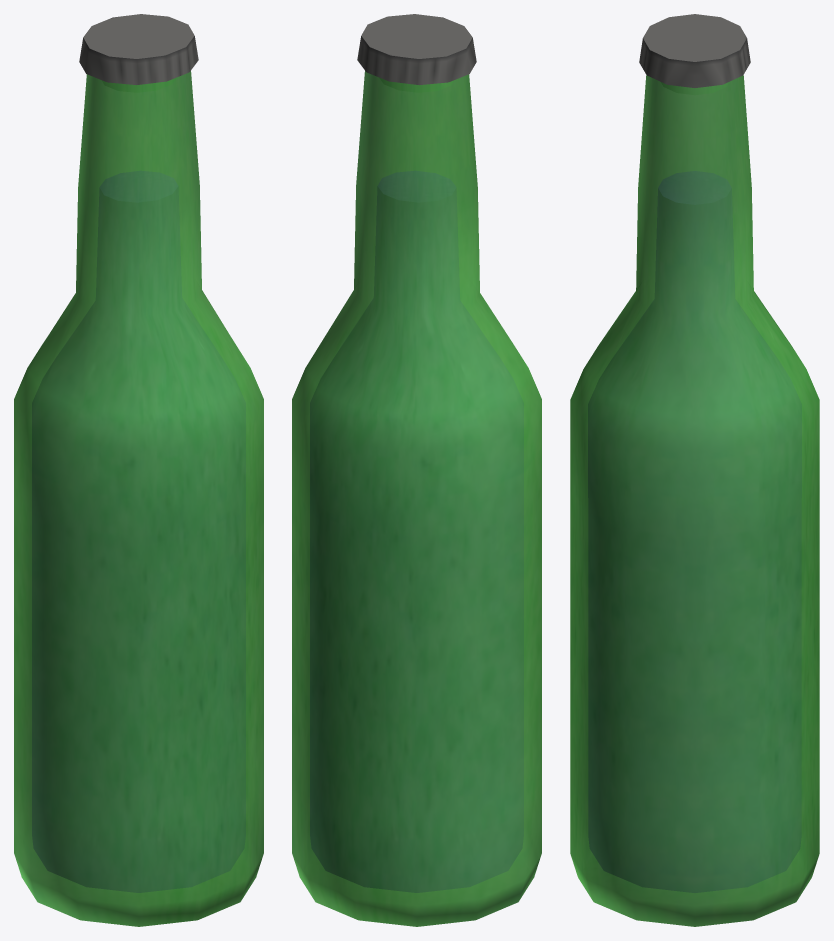
Rendered from drink01d.fbx.
The picture shows the model from 3 angles, left to right: view 1: azimuth 30°, elevation 25°; view 2: azimuth 150°, elevation 25°; view 3: azimuth 270°, elevation 25°; orthographic projection.
Parts seen in each view (by area): view 1: drink01d; view 2: drink01d; view 3: drink01d.
Boxes of the visible parts, x1=… form: drink01d: x1=14, y1=14, x2=263, y2=926; drink01d: x1=292, y1=14, x2=541, y2=926; drink01d: x1=570, y1=14, x2=819, y2=926.
Bounding box in the file's own units: 7.1 × 26.37 × 7.1.
